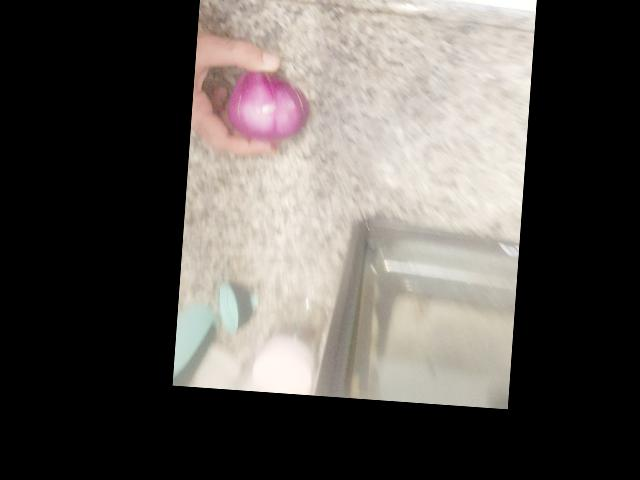onion: (223, 60, 310, 150)
